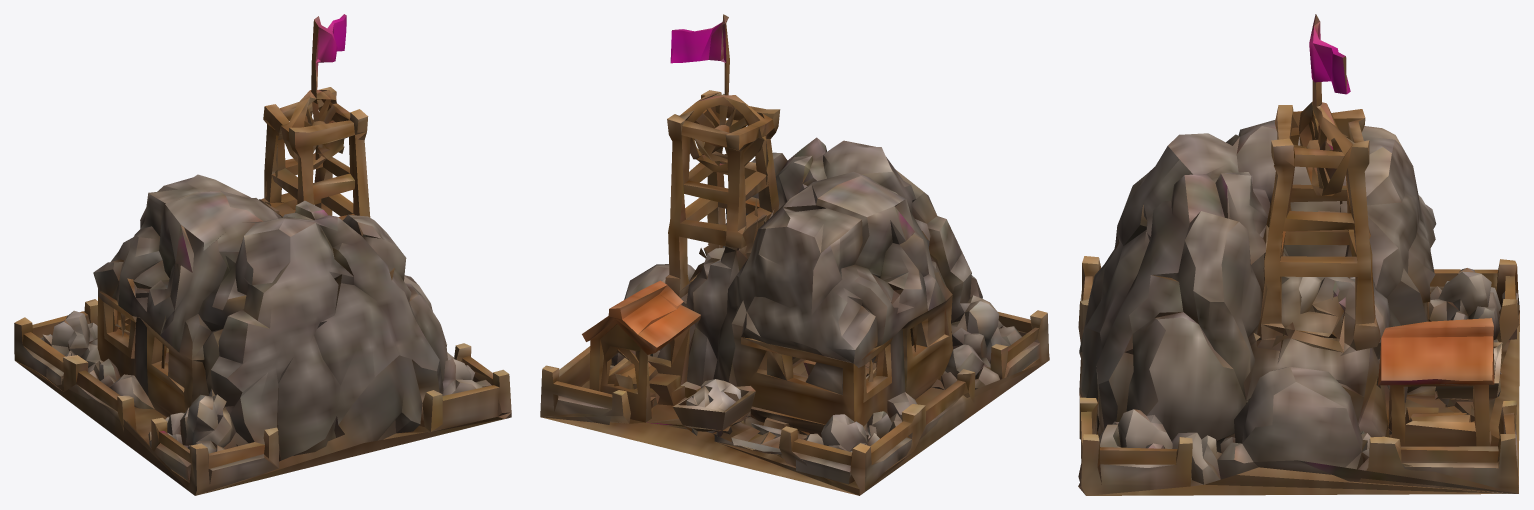
Rendered from stone_mine2.lod2.glb.
3 renders of one model, left to right at view 1: azimuth 30°, elevation 25°; view 2: azimuth 150°, elevation 25°; view 3: azimuth 270°, elevation 25°, orthographic. The views are drawn at different scales.
Parts seen in each view (by area): view 1: stone_mine2.lod2_uv; view 2: stone_mine2.lod2_uv; view 3: stone_mine2.lod2_uv.
Boxes of the visible parts, left/top/right/bottom form: stone_mine2.lod2_uv: left=14, top=14, right=511, bottom=495; stone_mine2.lod2_uv: left=540, top=14, right=1049, bottom=495; stone_mine2.lod2_uv: left=1078, top=14, right=1519, bottom=495.
Size of the model in its own units: 1.8 by 1.91 by 1.8.
Materials: 1 (1 with a texture image).
